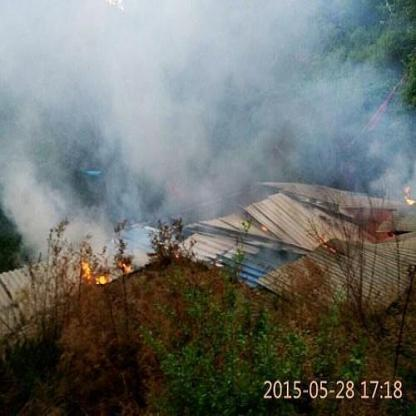fire: (79, 253, 111, 288), (116, 259, 136, 276), (260, 219, 266, 230)
smoke: (110, 33, 202, 177), (12, 174, 98, 245), (307, 70, 379, 134)
